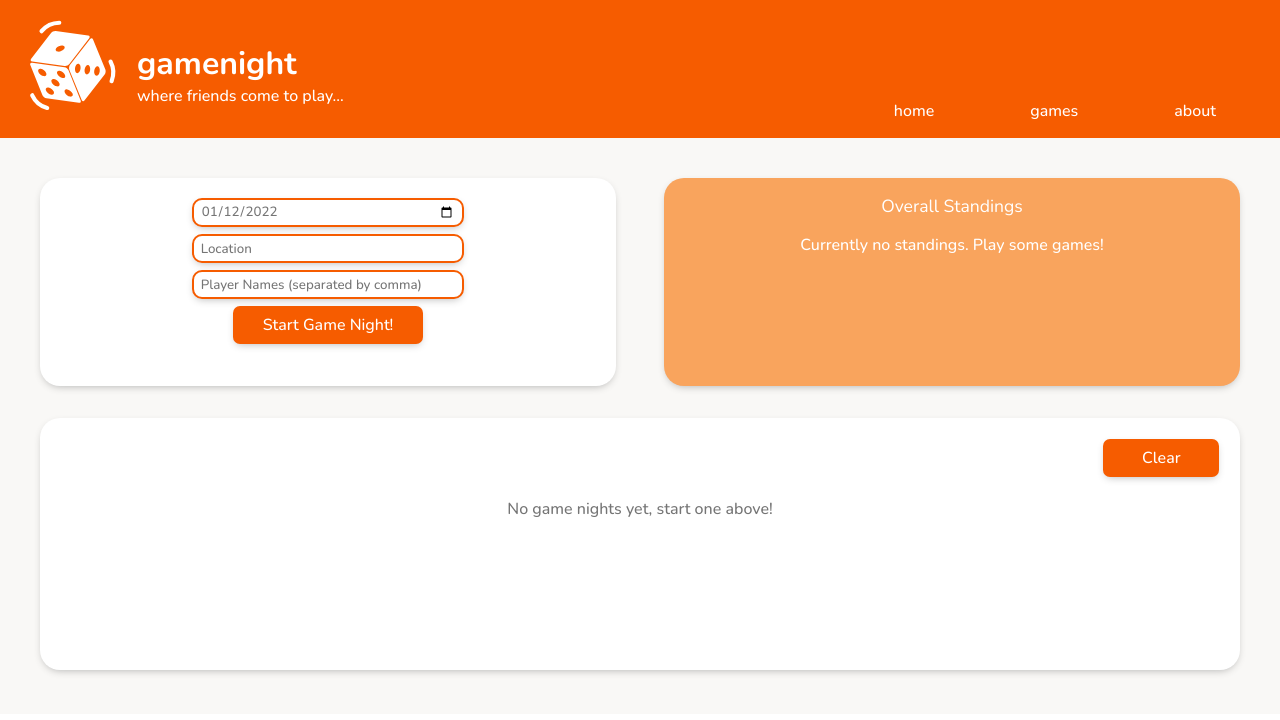
main page › When a user selects a game and a game winner, a game card displaying the game image and winner is rendered
Type "Coffee Shop" into the field named "location" at (328, 249), box [192,234,464,263]
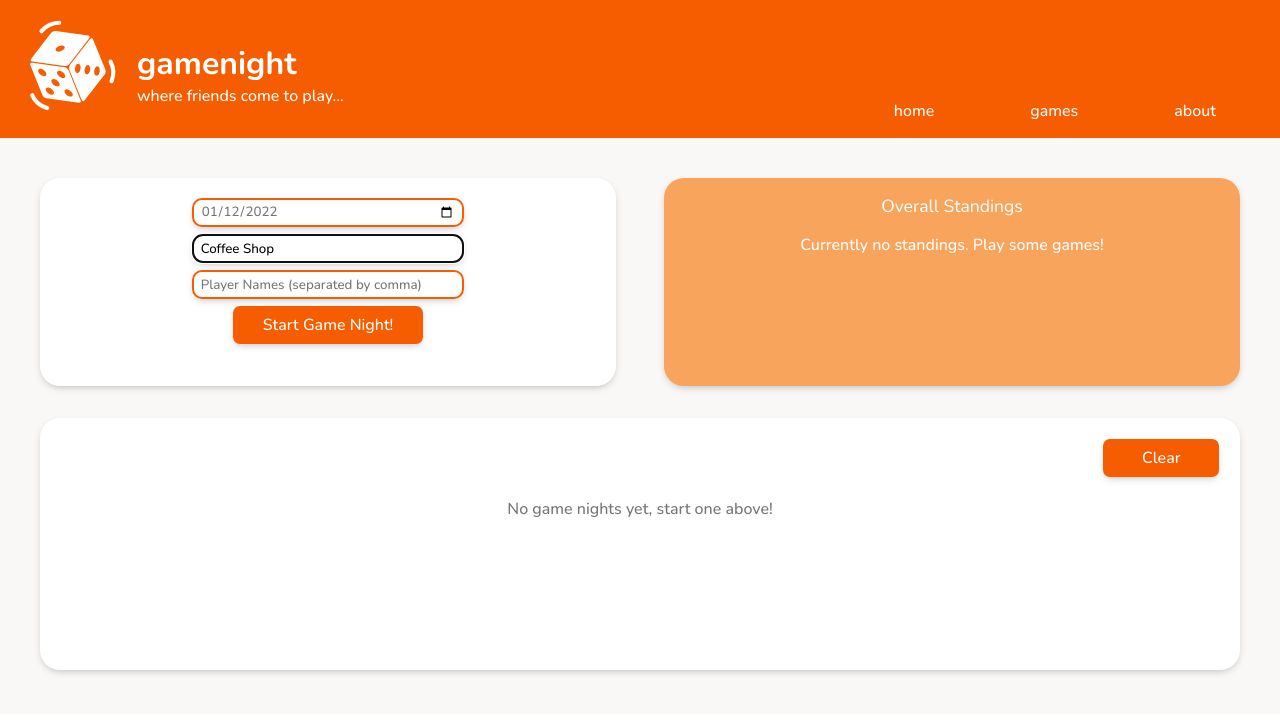
Type "Adam, Kyra, Carl" into the field named "players" at (328, 285), box [192,270,464,299]
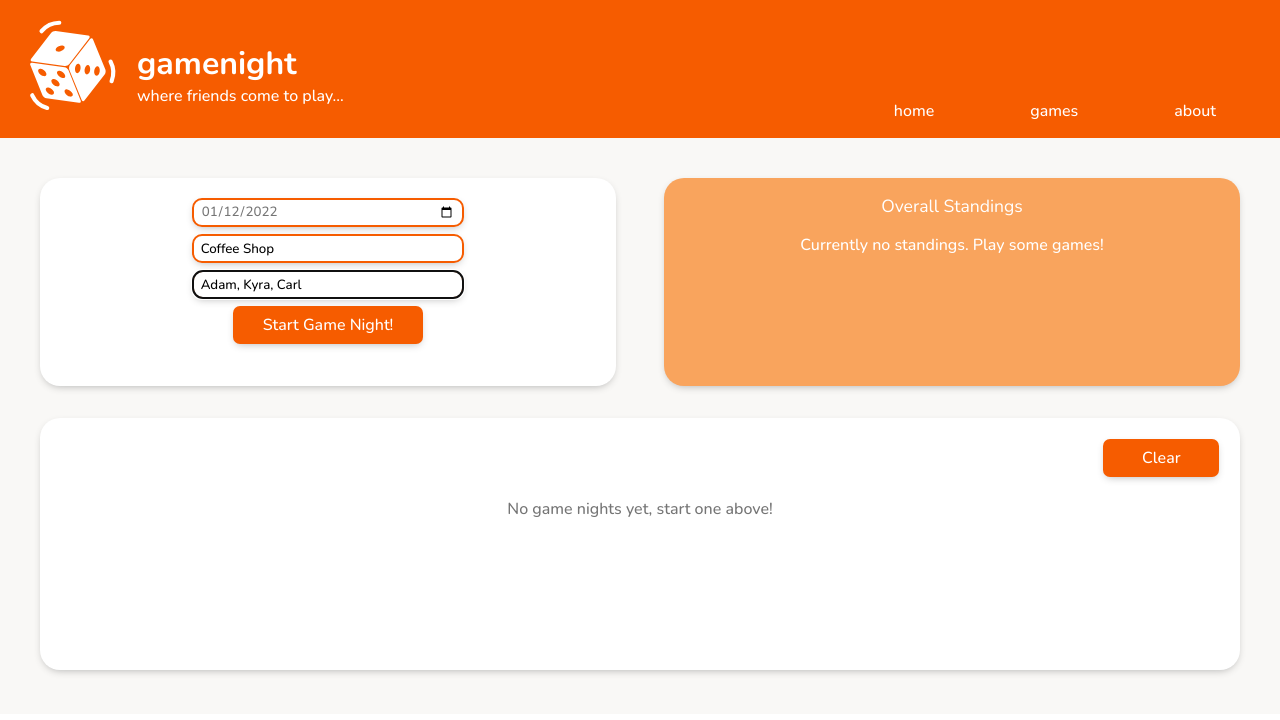
Click the button "Start Game Night!" at (328, 326), box [233,307,423,345]
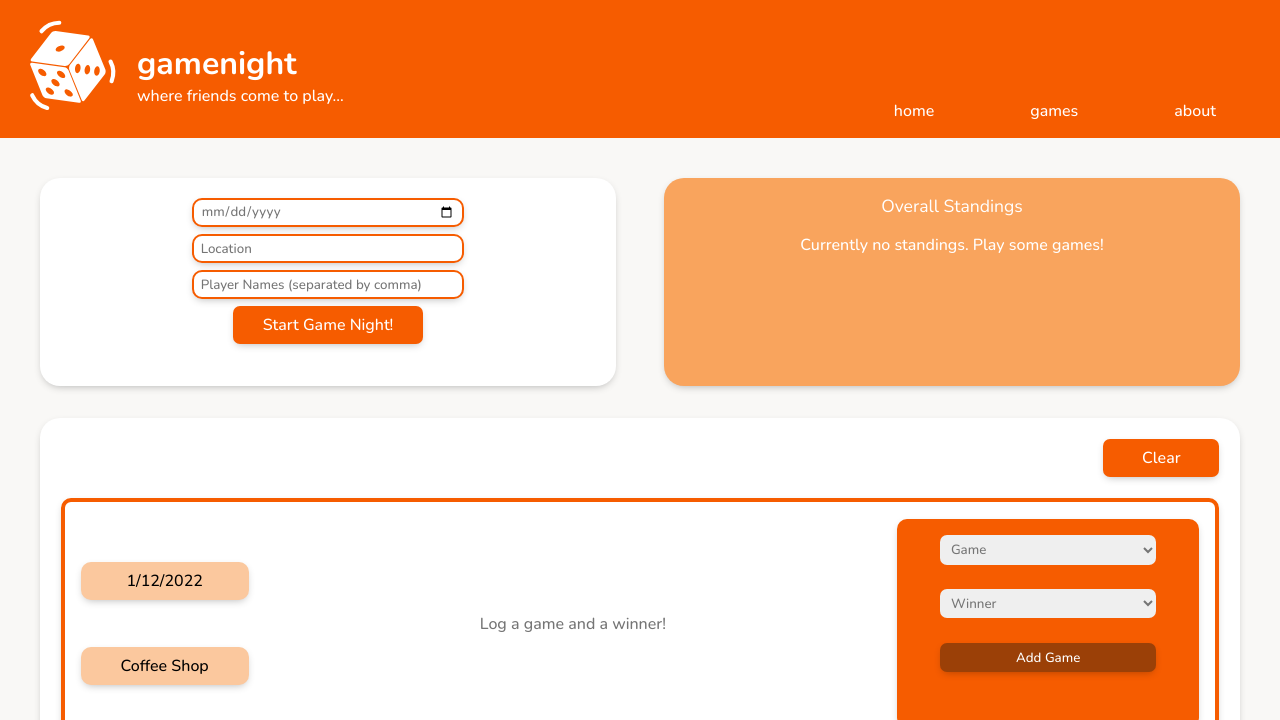
Select "Gloomhaven" in the 1st dropdown named "game" at (1048, 550), box [940,535,1156,564]
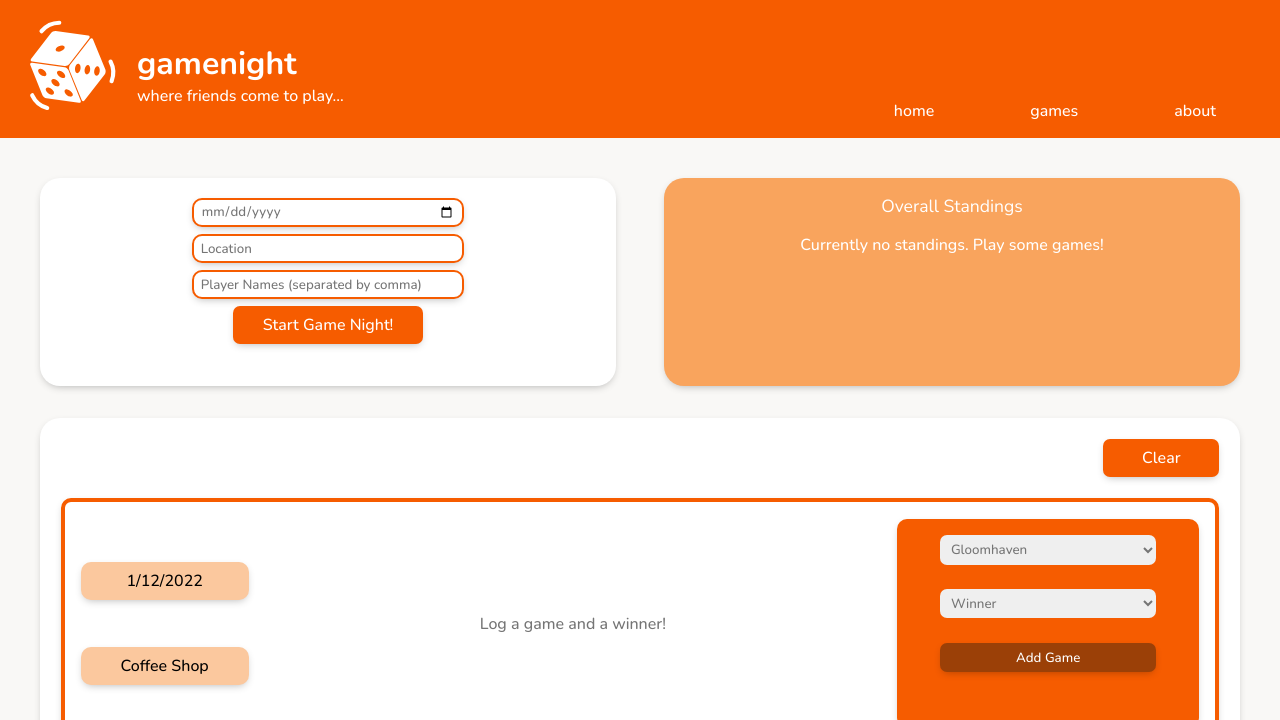
Select "kyra" in the 2nd dropdown at (1048, 604), box [940,589,1156,618]
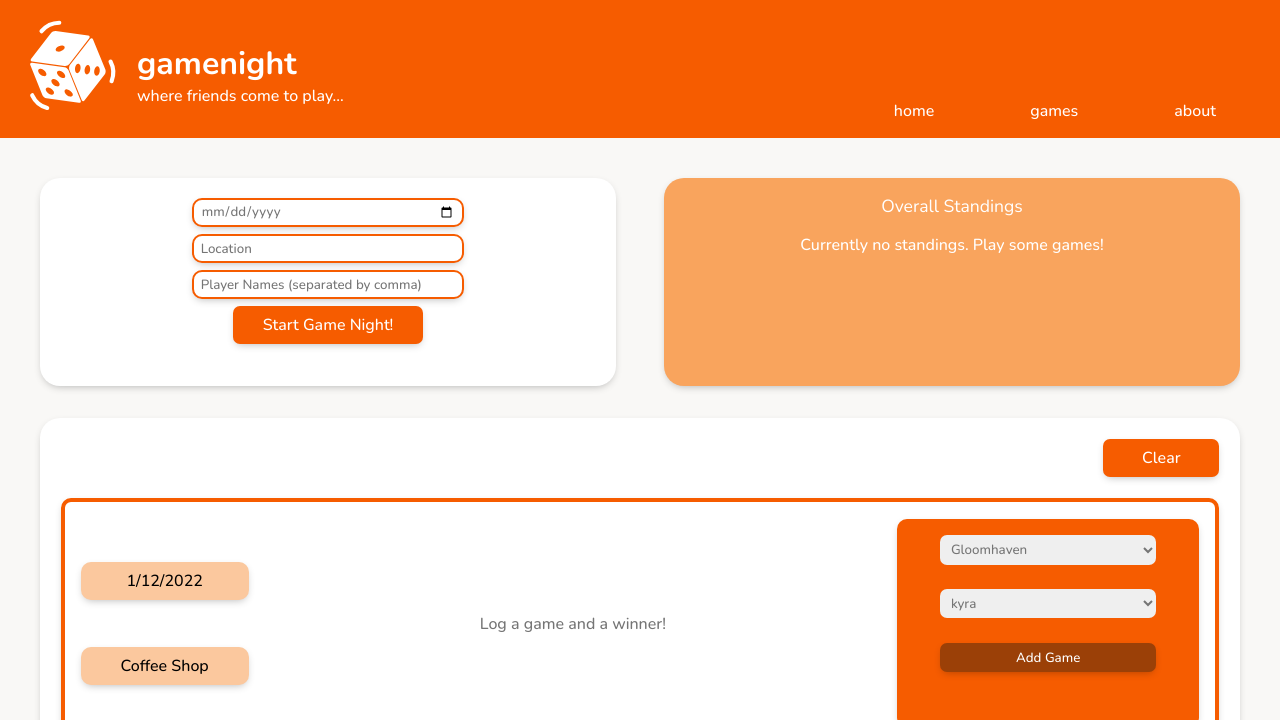
Click the button "Add Game" at (1048, 658), box [940,643,1156,672]
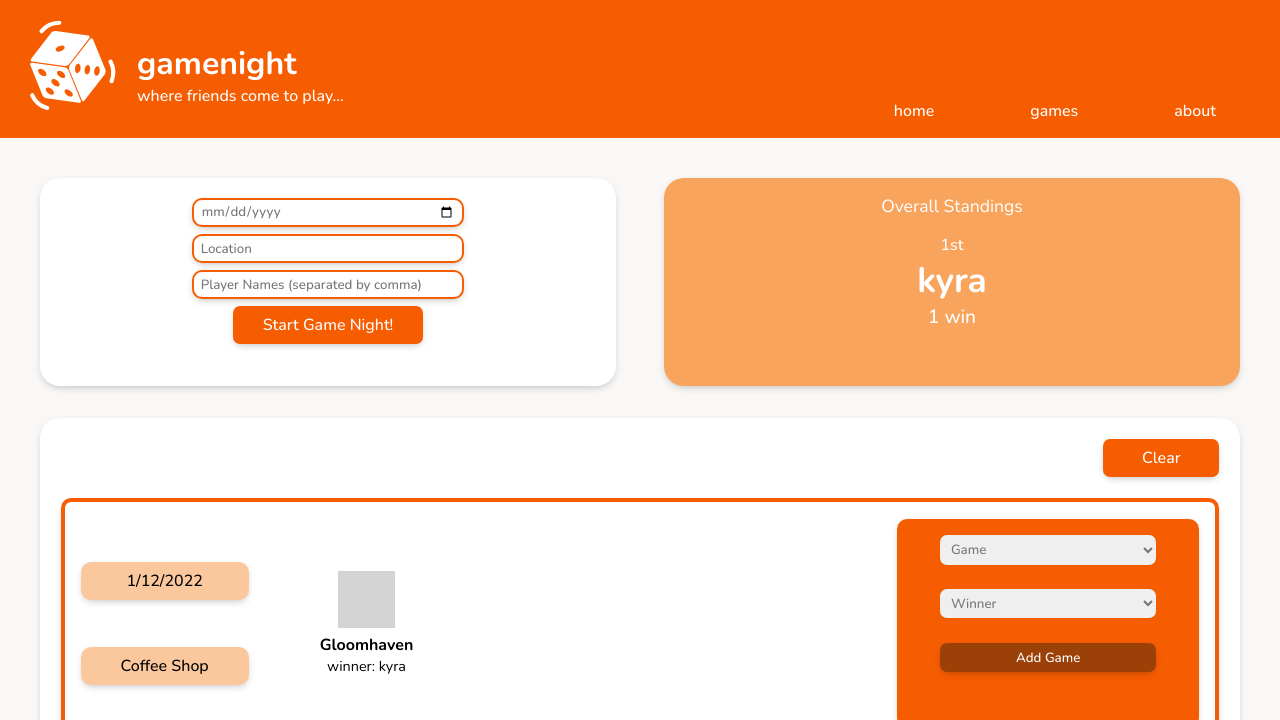
Expected: the text "kyra" is shown, [379,656,406,676]
